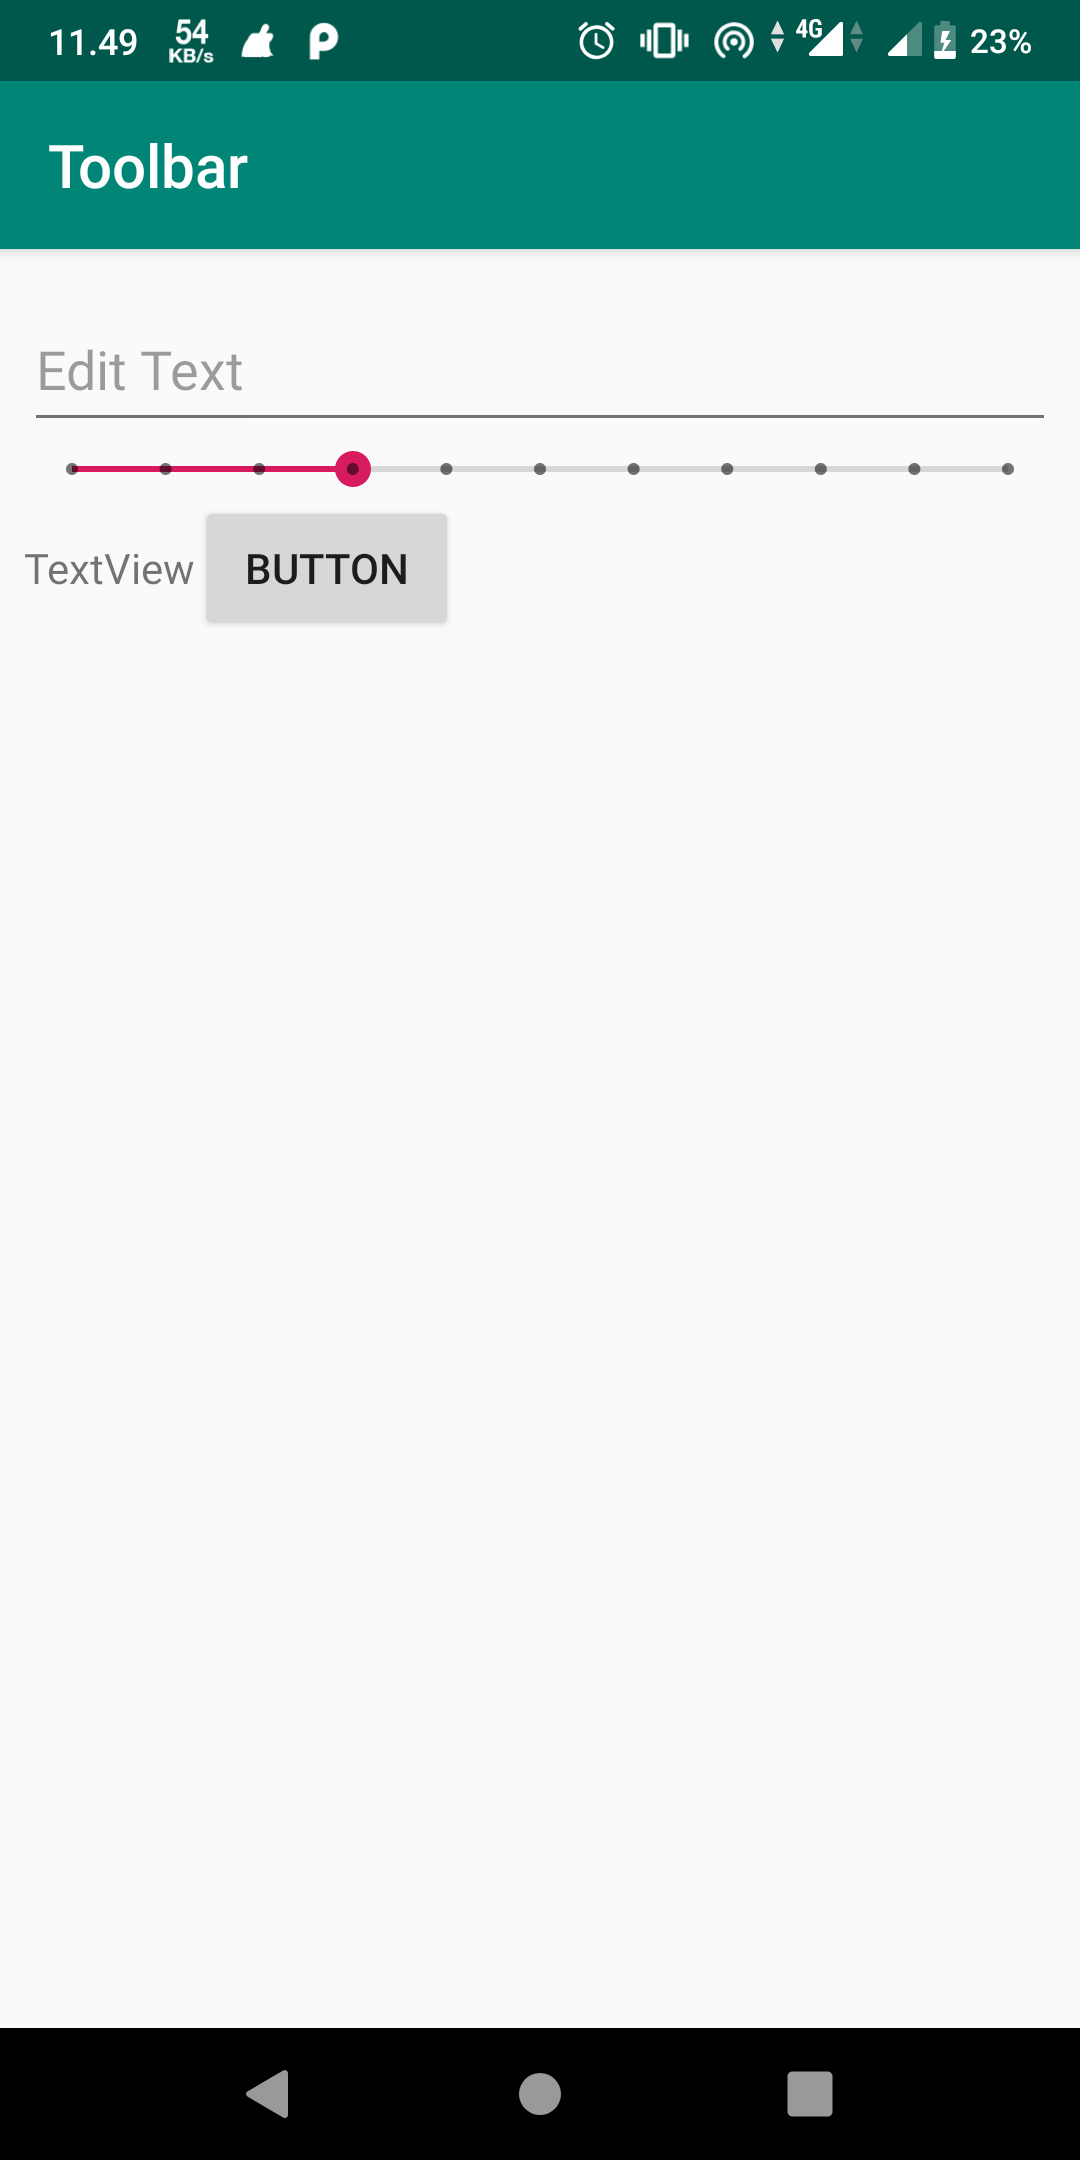button: (198, 508, 457, 635)
editText: (19, 331, 1061, 431)
slider: (44, 448, 1025, 493)
textView: (25, 541, 198, 596)
toolbar: (3, 80, 1080, 252)
